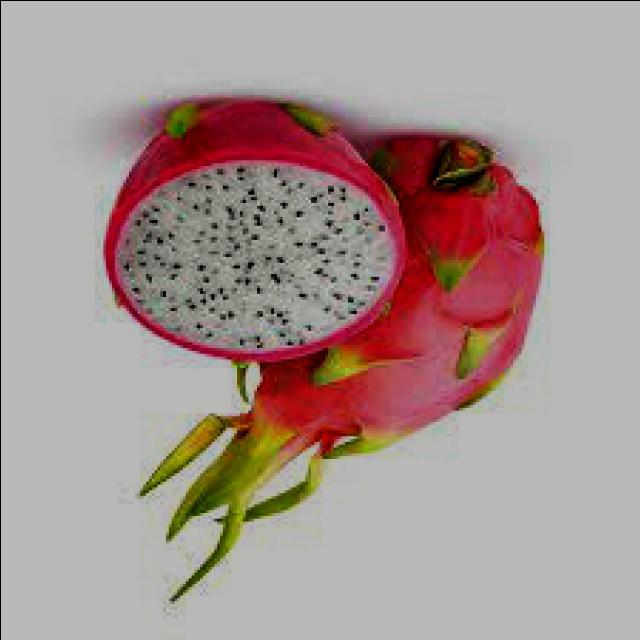trang: (134, 136, 548, 604), (100, 96, 404, 361)
